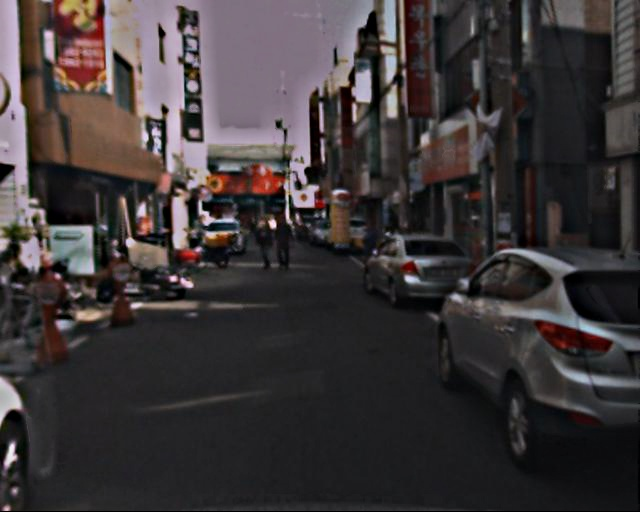person: (273, 214, 298, 280), (360, 214, 384, 282), (257, 218, 278, 276)
